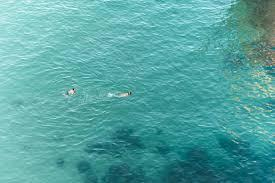swimmer: (110, 89, 132, 100), (63, 87, 76, 99)
